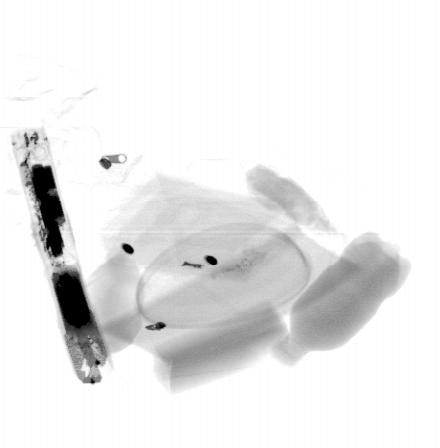Baton: (8, 122, 116, 386)
